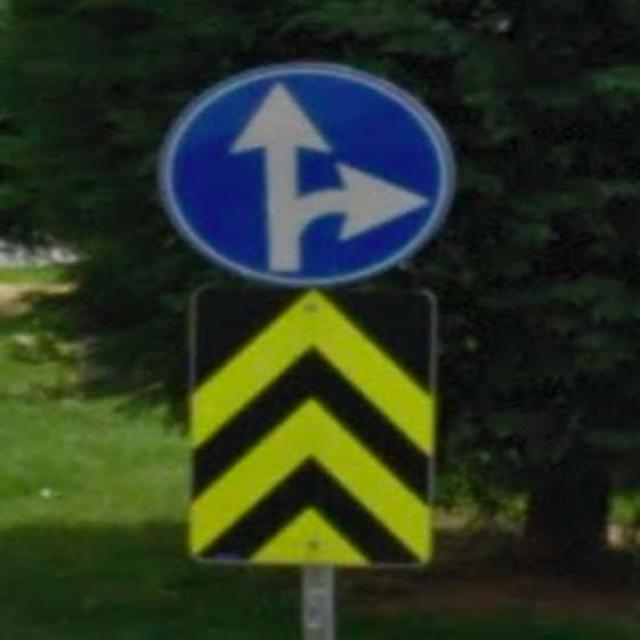ilerisag: (158, 62, 450, 286)
